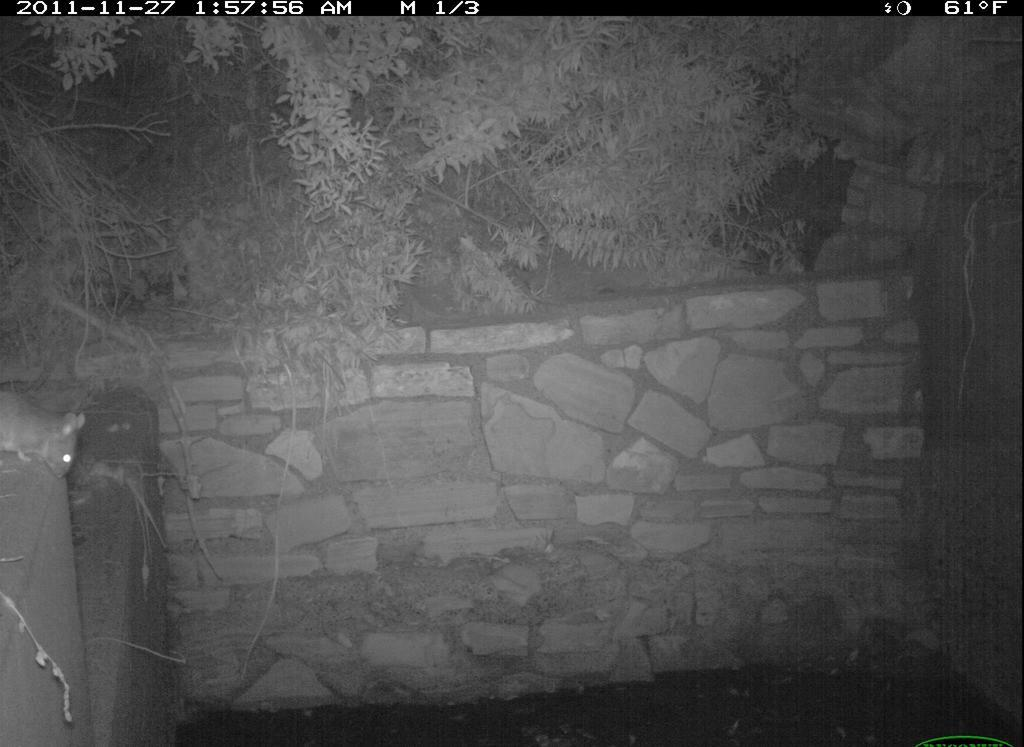rodent: (6, 379, 112, 493)
